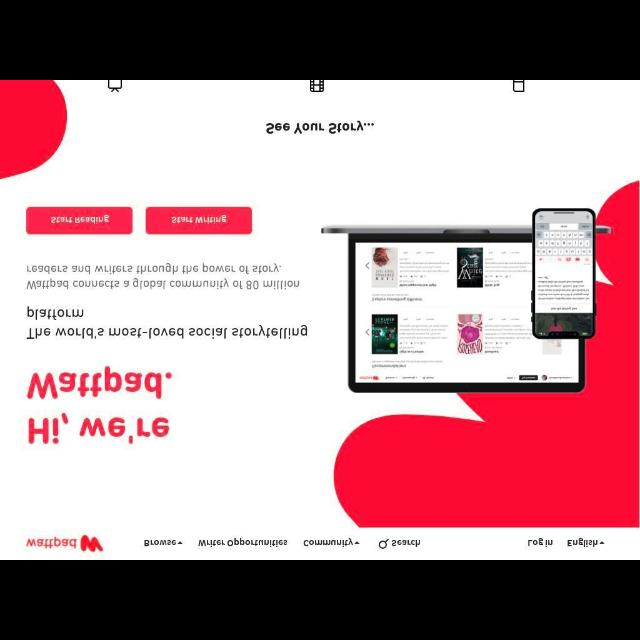backgroundimage: (314, 179, 640, 527)
icon: (510, 81, 526, 93), (106, 81, 122, 92), (310, 81, 324, 92), (378, 539, 389, 549), (600, 540, 604, 544), (354, 542, 360, 544), (178, 542, 182, 544)
image: (26, 535, 104, 553)
spinner: (304, 537, 361, 547), (567, 537, 605, 547), (144, 540, 182, 546)
text: (26, 364, 176, 446), (26, 306, 308, 342), (25, 261, 302, 293), (266, 119, 376, 135), (198, 539, 288, 547), (51, 214, 111, 224), (170, 214, 228, 224), (302, 538, 353, 546), (568, 537, 598, 547), (528, 537, 554, 547), (144, 540, 176, 546), (391, 540, 421, 546)
textbutton: (26, 206, 132, 234), (146, 208, 252, 235)
toolbar: (1, 528, 639, 560)
